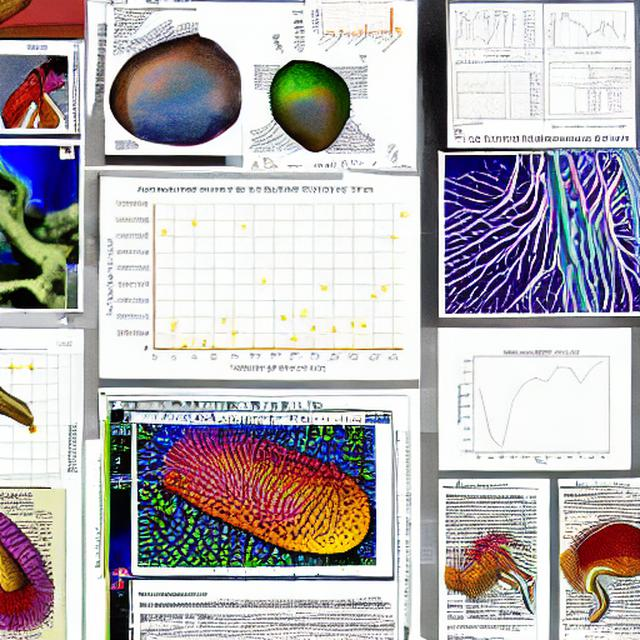Graph: (104, 184, 416, 377), (448, 341, 630, 466), (309, 0, 405, 59), (545, 7, 624, 55), (453, 90, 507, 122)
